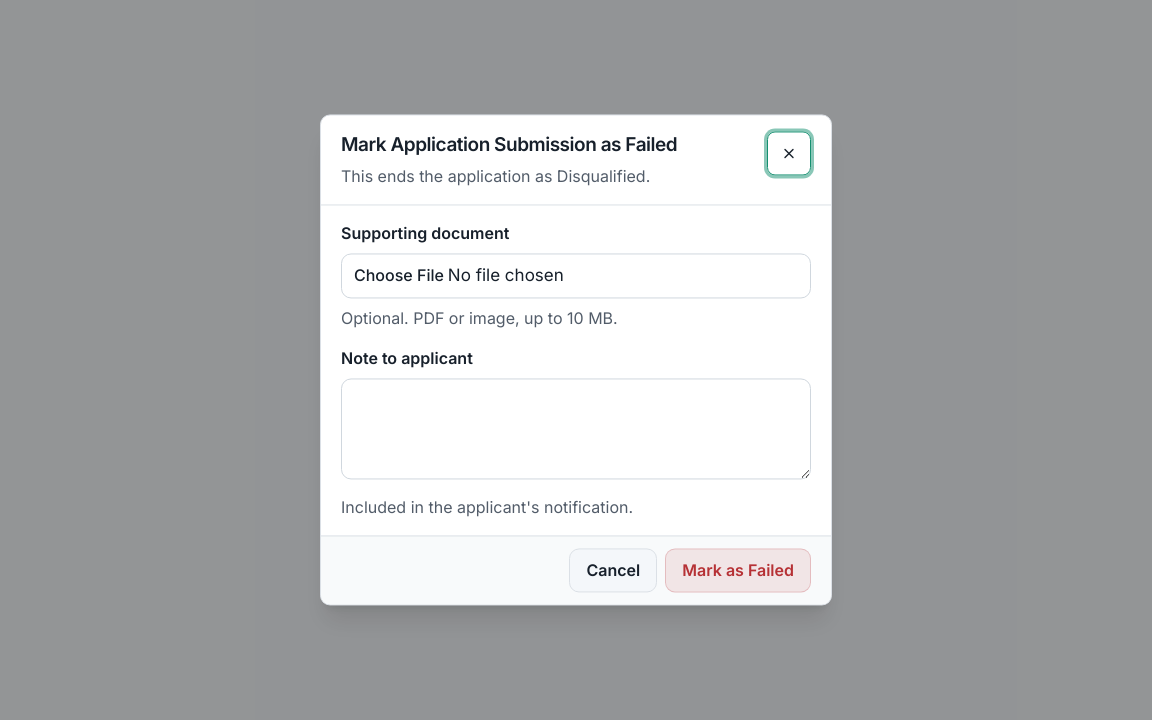
stage dialogs › explains that Failed ends the application and shows server errors inside the dialog
Check: the dialog "Mark Application Submission as Failed" shows "This ends the application as Disqualified.", box [341,166,650,186]
Click the button "Mark as Failed".
click(738, 570)  # box [665,548,811,592]
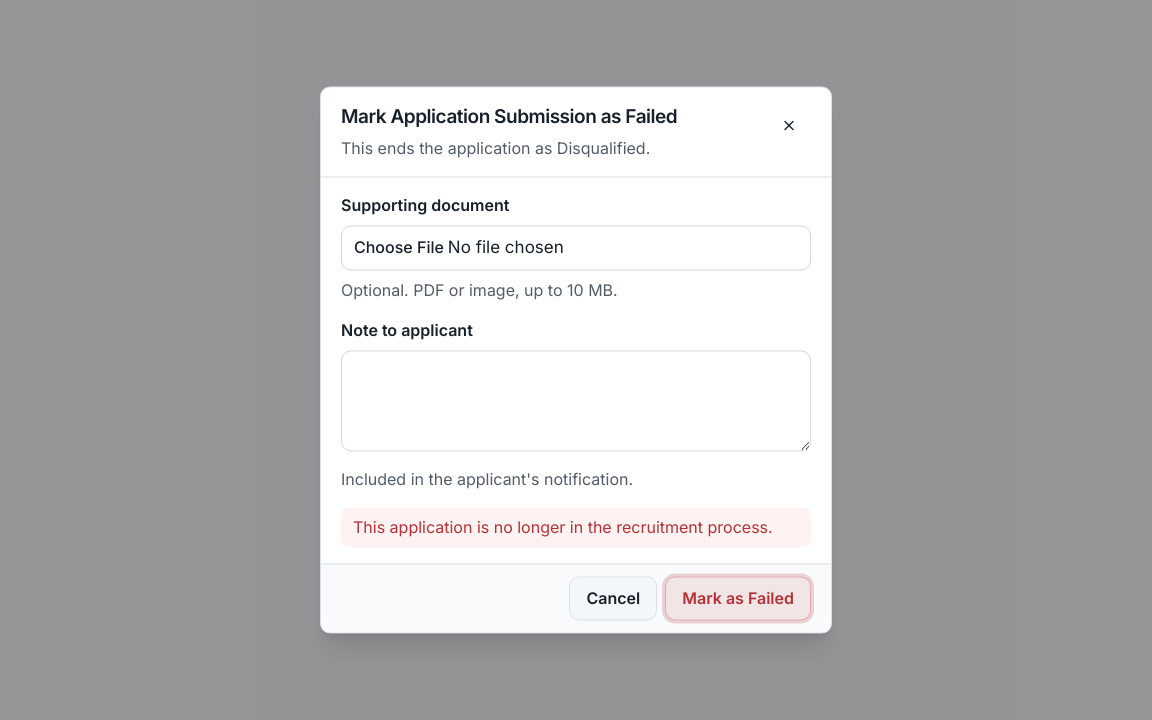
Check: the message reads "This application is no longer in the recruitment process.", box [353,518,773,538]
